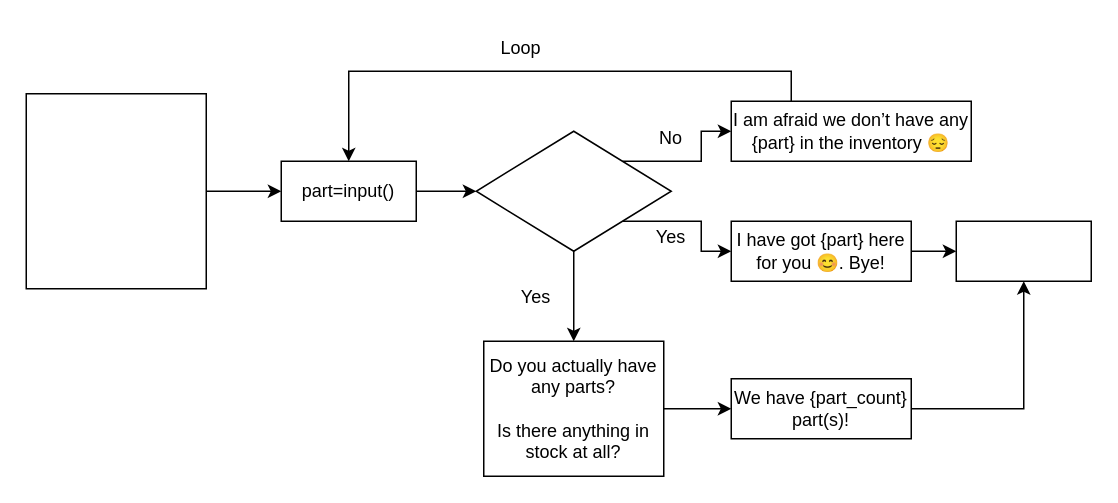
This 1118x503 diagram has some shape labels left out. Here are the shapes that lost their labels. From the top down, the box of each, then its label:
(25, 92, 206, 289): Hej. Welcome to the spare parts inventory! Which part do you need?
(475, 130, 671, 251): Search Found?
(955, 220, 1091, 281): End
